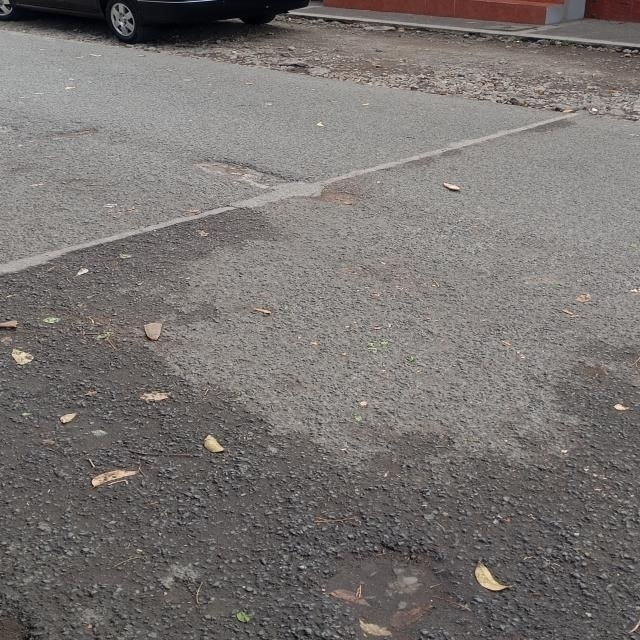pothole: (321, 522, 458, 640), (182, 145, 357, 226)
